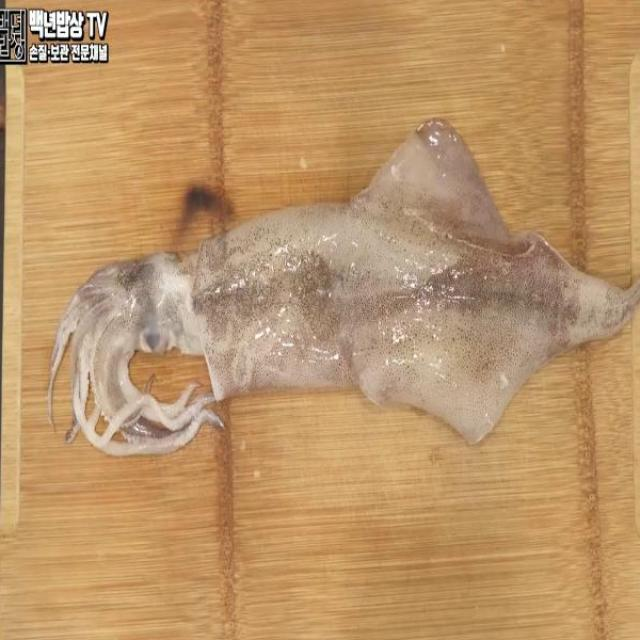SQUID: (29, 99, 640, 473)
